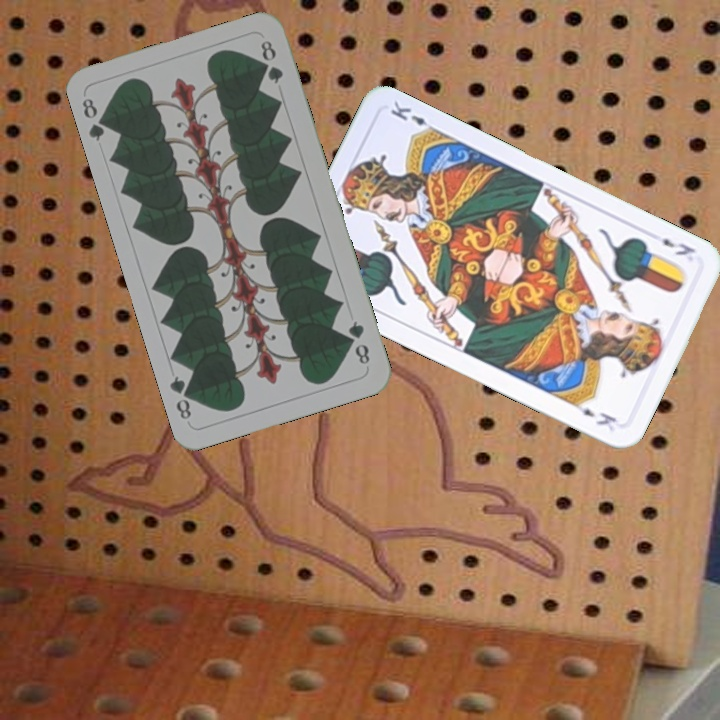EK: (658, 234, 698, 258)
G8: (78, 94, 113, 144), (344, 316, 373, 367)
